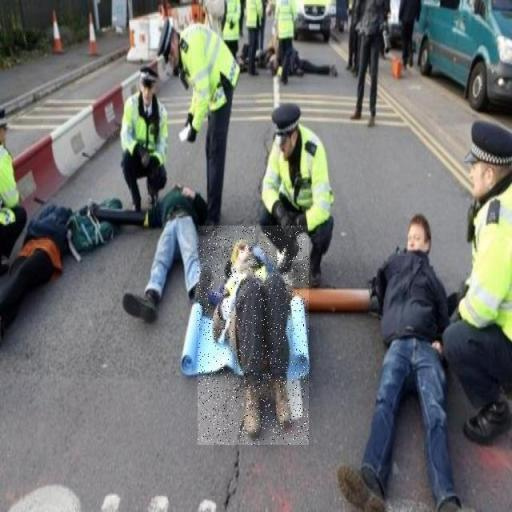Fall: (198, 226, 309, 445)
